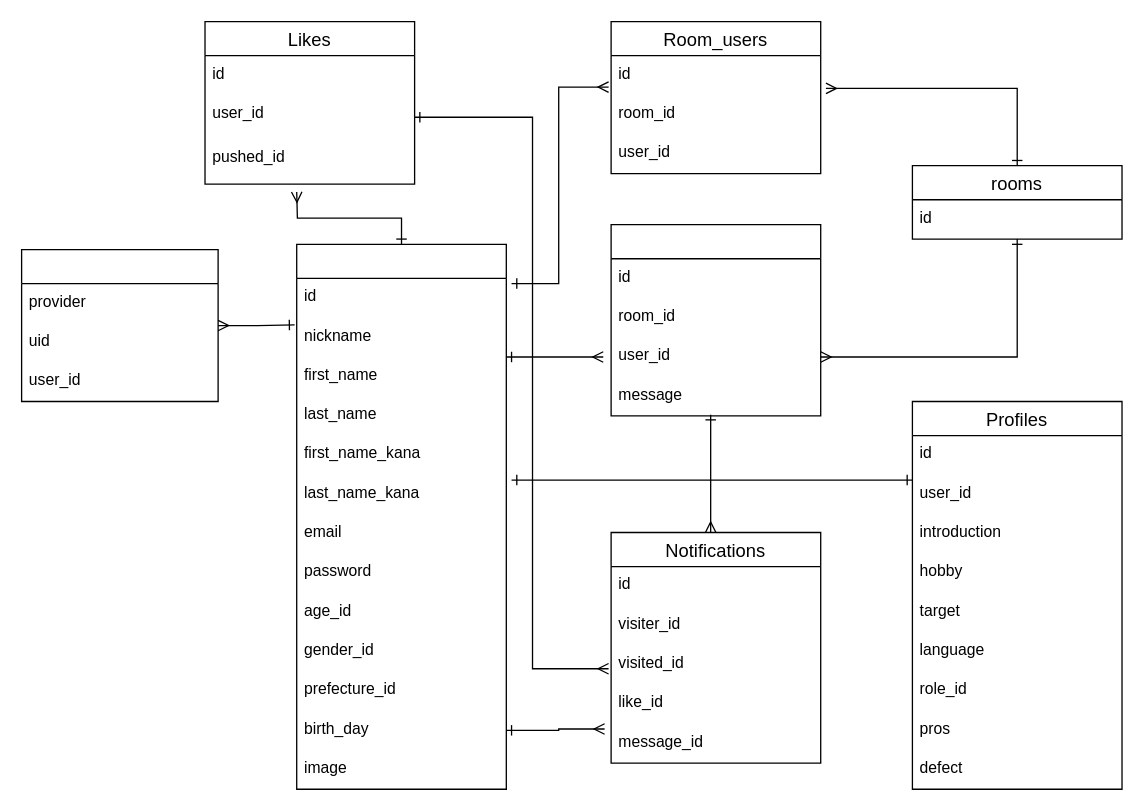
This 1144x811 diagram has some shape labels left out. The shapes that lost their labels are listed below. From the top down, each one's box as (x1, y1, x2, y2) in pixels, then its label:
(20, 248, 218, 402): SnsCredentias
(610, 223, 821, 416): messages
(295, 243, 506, 789): Users
